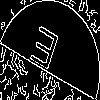E: (25, 24, 61, 81)
